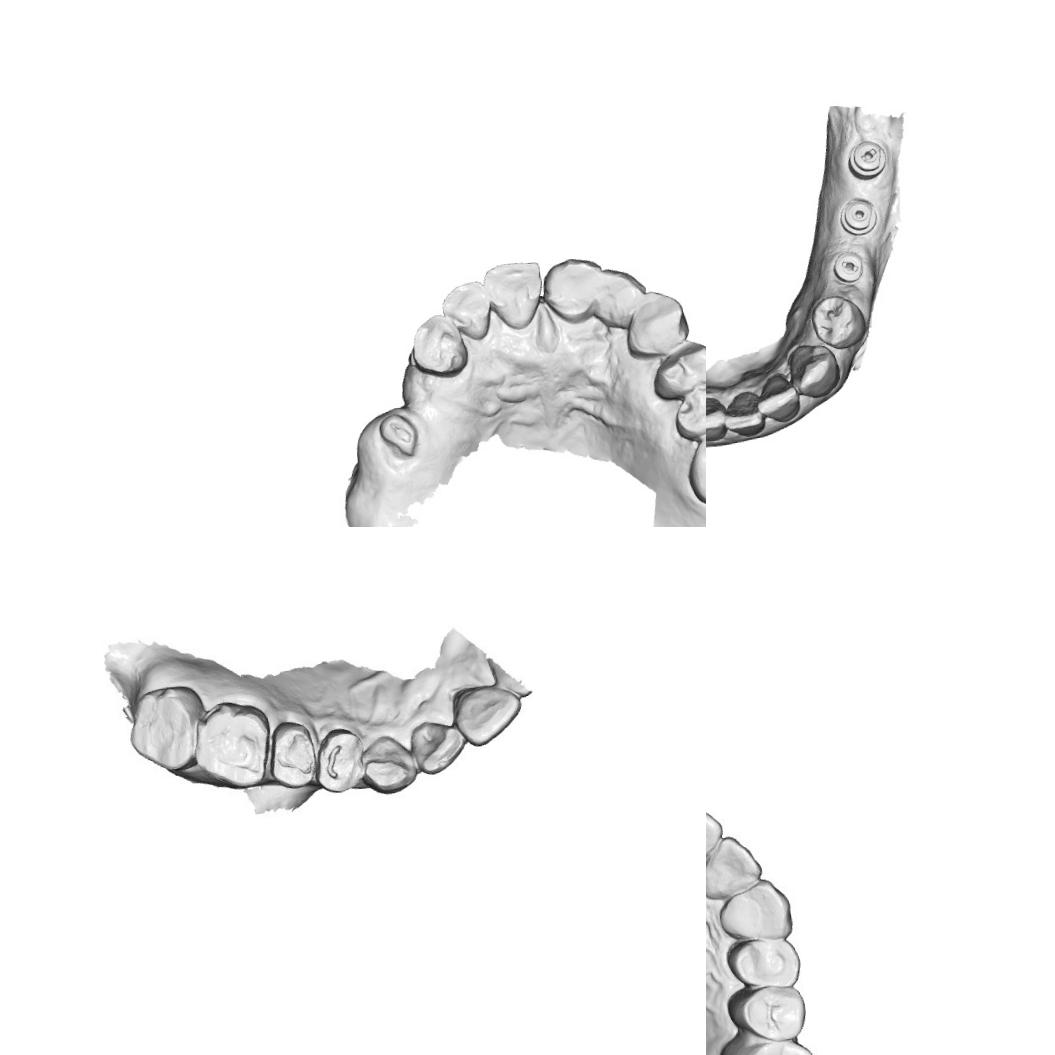canine: (714, 876, 795, 944), (621, 287, 692, 362), (407, 311, 469, 380), (358, 736, 417, 795), (785, 340, 842, 400)
implant: (836, 196, 878, 236)
implant_minus: (846, 138, 890, 182), (829, 249, 866, 286)
incisor: (480, 257, 548, 334), (539, 250, 606, 328), (450, 680, 519, 748), (706, 828, 765, 902), (589, 263, 649, 331), (438, 278, 494, 343), (410, 720, 469, 778), (753, 369, 802, 425), (720, 387, 767, 438), (706, 791, 728, 880), (706, 392, 730, 444)
molar: (190, 703, 268, 788), (128, 683, 200, 767), (713, 1033, 820, 1055), (682, 418, 706, 508)
premolar: (724, 979, 814, 1047), (724, 936, 804, 992), (808, 289, 868, 352), (648, 338, 706, 401), (265, 722, 320, 785), (312, 730, 363, 792), (670, 379, 706, 441)
